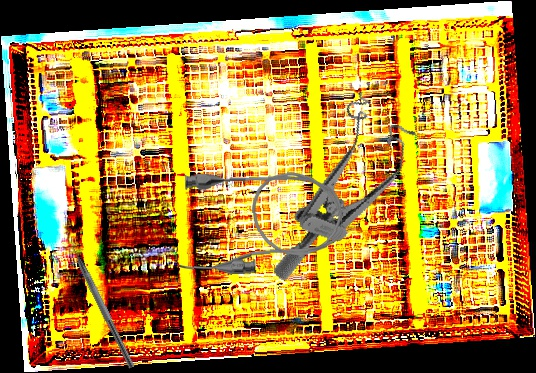Cannula: (174, 166, 345, 278)
Chopper: (63, 232, 144, 369)
Speculum: (270, 82, 425, 307)
